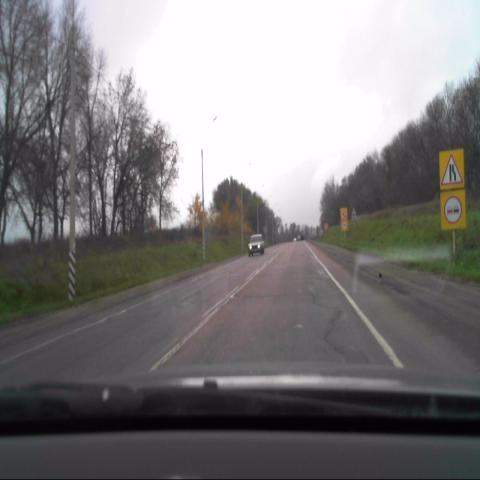1_20_2: (439, 149, 464, 186)
3_20: (441, 189, 465, 229)
